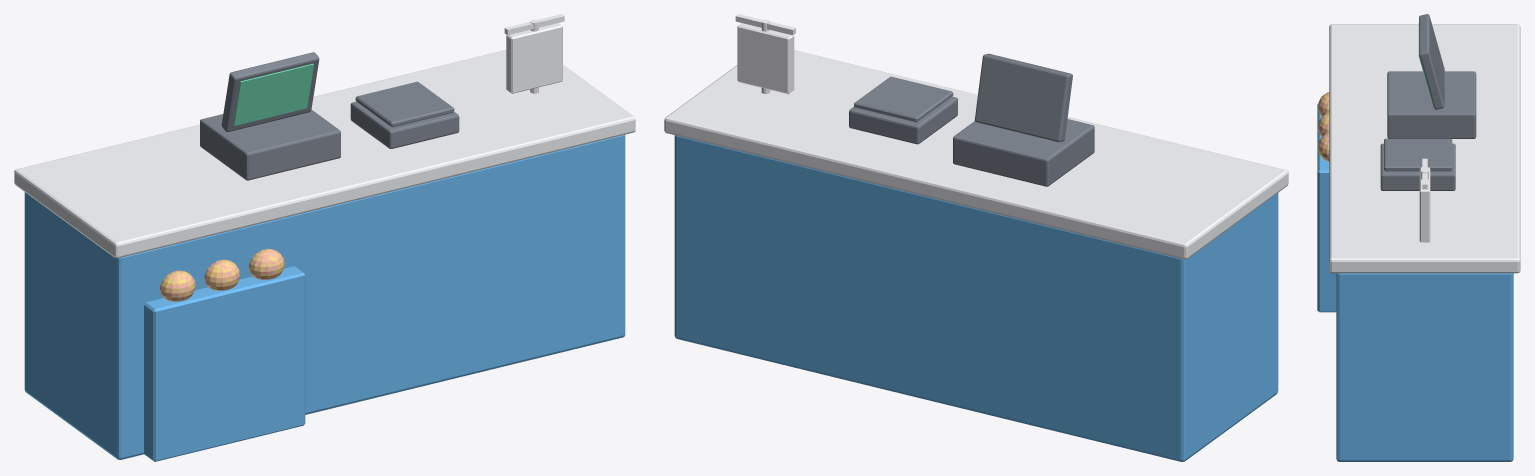
File: meja_kasir.fbx
3 renders of one model, left to right at view 1: azimuth 30°, elevation 25°; view 2: azimuth 150°, elevation 25°; view 3: azimuth 270°, elevation 25°, orthographic. The views are drawn at different scales.
Parts seen in each view (by area): view 1: meja_kasir; view 2: meja_kasir; view 3: meja_kasir.
Boxes of the visible parts, box(x1,y1,x2,y2) form: meja_kasir: box(14, 14, 635, 461); meja_kasir: box(664, 14, 1288, 461); meja_kasir: box(1317, 14, 1520, 461).
Bounding box in the file's own units: 820 × 472 × 298.
Materials: 1 (1 with a texture image).
